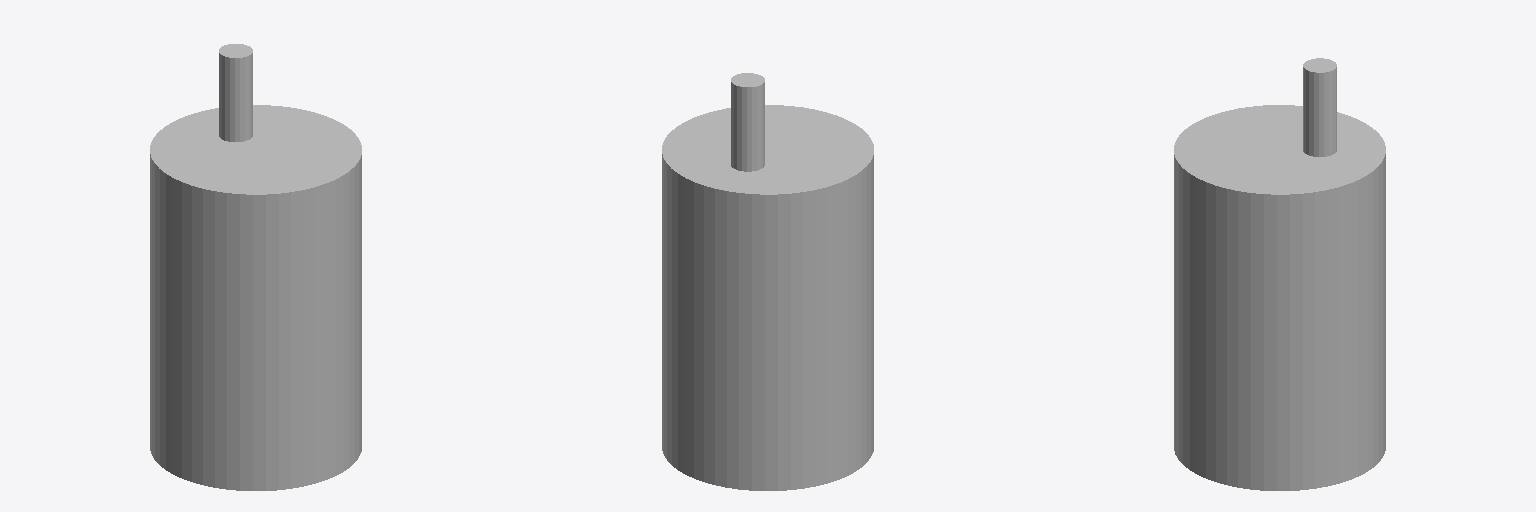
The model's file is fl_motor_visual.obj.
3 views of the same model, side by side, from view 1: azimuth 30°, elevation 25°; view 2: azimuth 150°, elevation 25°; view 3: azimuth 270°, elevation 25° (orthographic).
Parts seen in each view (by area): view 1: fl_motor; view 2: fl_motor; view 3: fl_motor.
Boxes of the visible parts, box(x1,y1,x2,y2) form: fl_motor: box(150, 44, 361, 490); fl_motor: box(662, 73, 873, 490); fl_motor: box(1174, 58, 1385, 490).
Bounding box in the file's own units: 3.7 × 7.32 × 3.7.